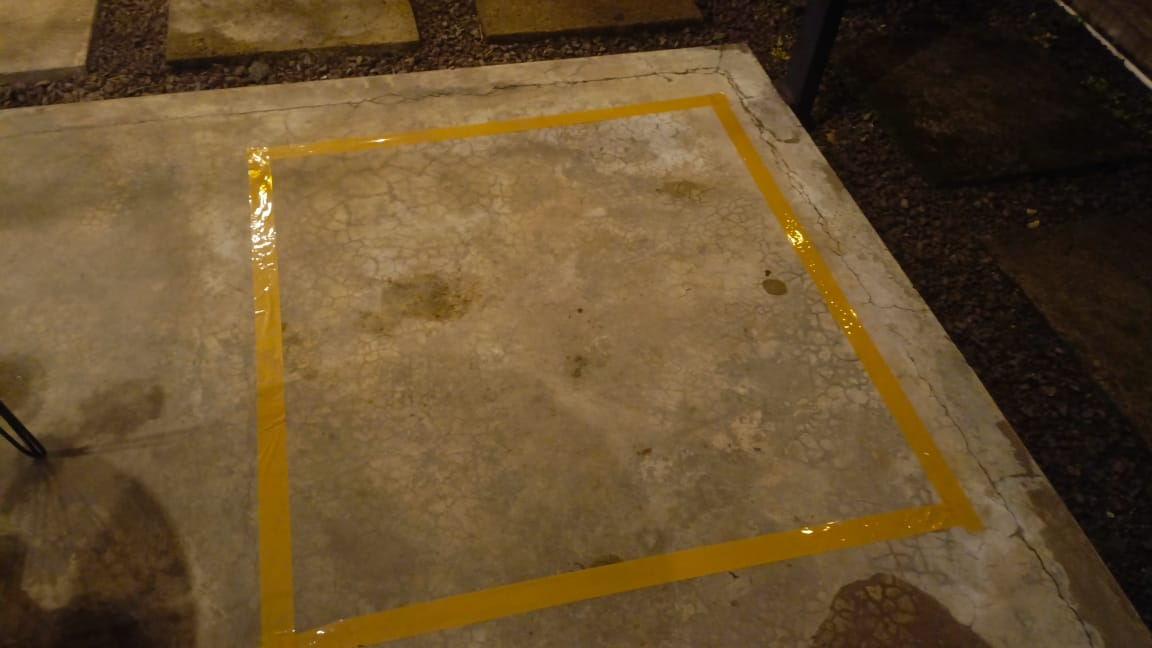floor marking: (248, 94, 981, 647)
